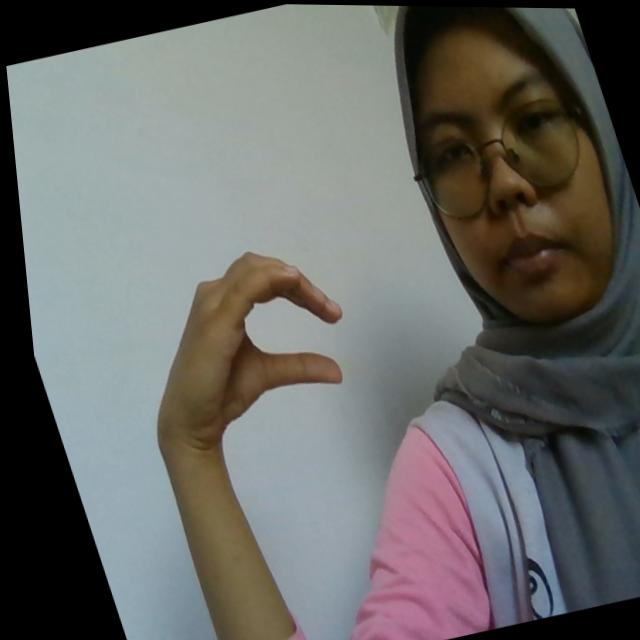C: (95, 231, 373, 457)
